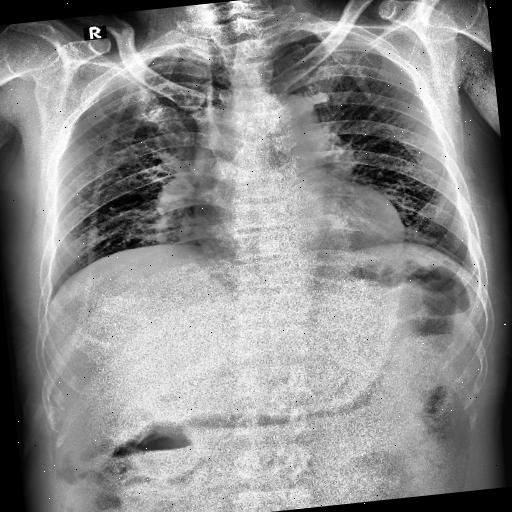0- Aortic enlargement: (232, 86, 328, 158), (248, 90, 330, 166), (260, 90, 326, 150)
3- Cardiomegaly: (190, 196, 408, 270)
